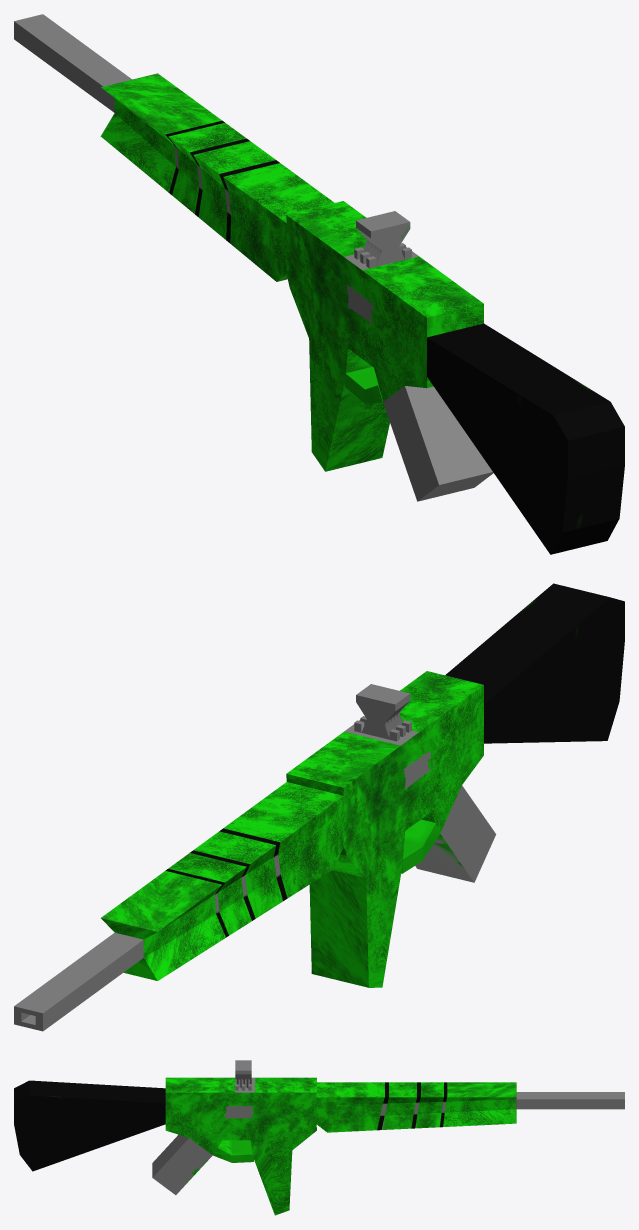
Rendered from 1842861_DinolanNaidoo_WSOA2026_2020_ExamGame_Weapon.gltf.
3 views of the same model, one above another, from view 1: azimuth 30°, elevation 25°; view 2: azimuth 150°, elevation 25°; view 3: azimuth 270°, elevation 25° (orthographic). The views are drawn at different scales.
Visible parts, largest first — view 1: High Poly Gun, Low Poly Gun; view 2: High Poly Gun, Low Poly Gun; view 3: High Poly Gun, Low Poly Gun.
Boxes of the visible parts, x1,y1,x2,y2 form: High Poly Gun: (14,14,624,554); Low Poly Gun: (14,18,493,501); High Poly Gun: (14,583,624,1031); Low Poly Gun: (29,704,495,1027); High Poly Gun: (14,1060,624,1215); Low Poly Gun: (14,1078,624,1208).
Bounding box in the file's own units: 0.2909 × 1.28 × 4.98.
1 material, 1 textured.
